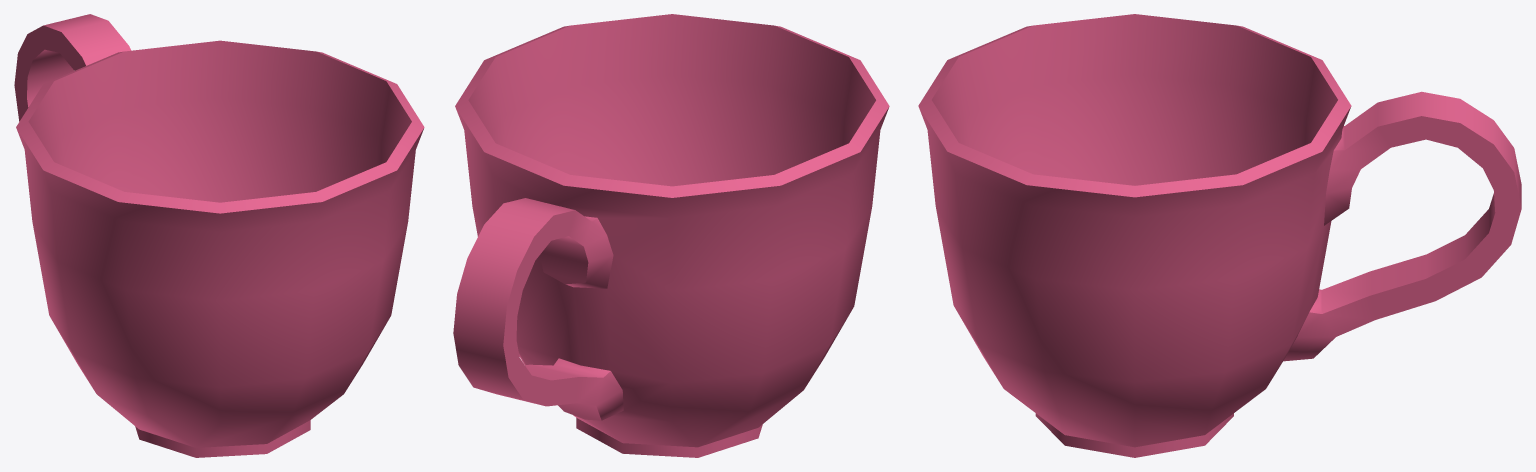
File: Tableware_V7_1.fbx
3 renders of one model, left to right at view 1: azimuth 30°, elevation 25°; view 2: azimuth 150°, elevation 25°; view 3: azimuth 270°, elevation 25°, orthographic. The views are drawn at different scales.
Visible parts, largest first — view 1: SM_Tableware_V7_1; view 2: SM_Tableware_V7_1; view 3: SM_Tableware_V7_1.
Part boxes in pixels (bbox=[...]): SM_Tableware_V7_1: bbox=[14, 14, 424, 457]; SM_Tableware_V7_1: bbox=[453, 14, 889, 457]; SM_Tableware_V7_1: bbox=[918, 14, 1521, 457].
Bounding box in the file's own units: 6.26 × 5.04 × 8.72.
